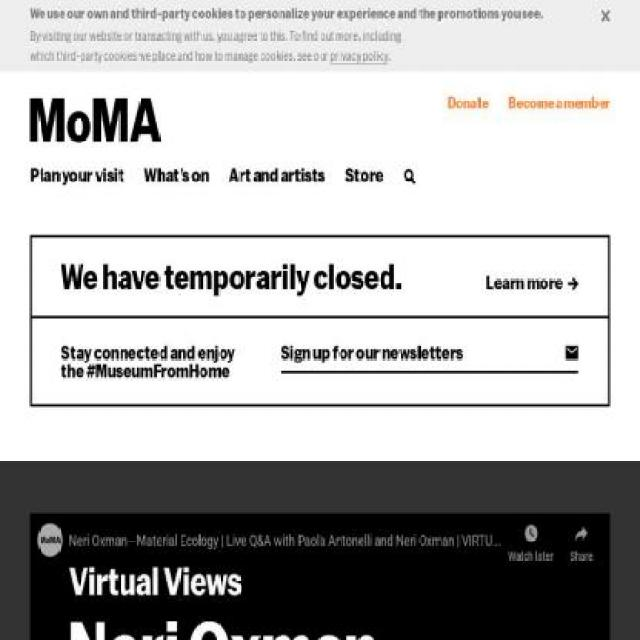button: (56, 258, 407, 296), (25, 92, 166, 150), (224, 161, 330, 188), (25, 161, 129, 188), (503, 92, 615, 115), (139, 161, 215, 188), (339, 161, 388, 188), (441, 92, 494, 115), (328, 48, 390, 64), (398, 162, 422, 192), (596, 4, 615, 28)
field: (277, 340, 563, 365)
